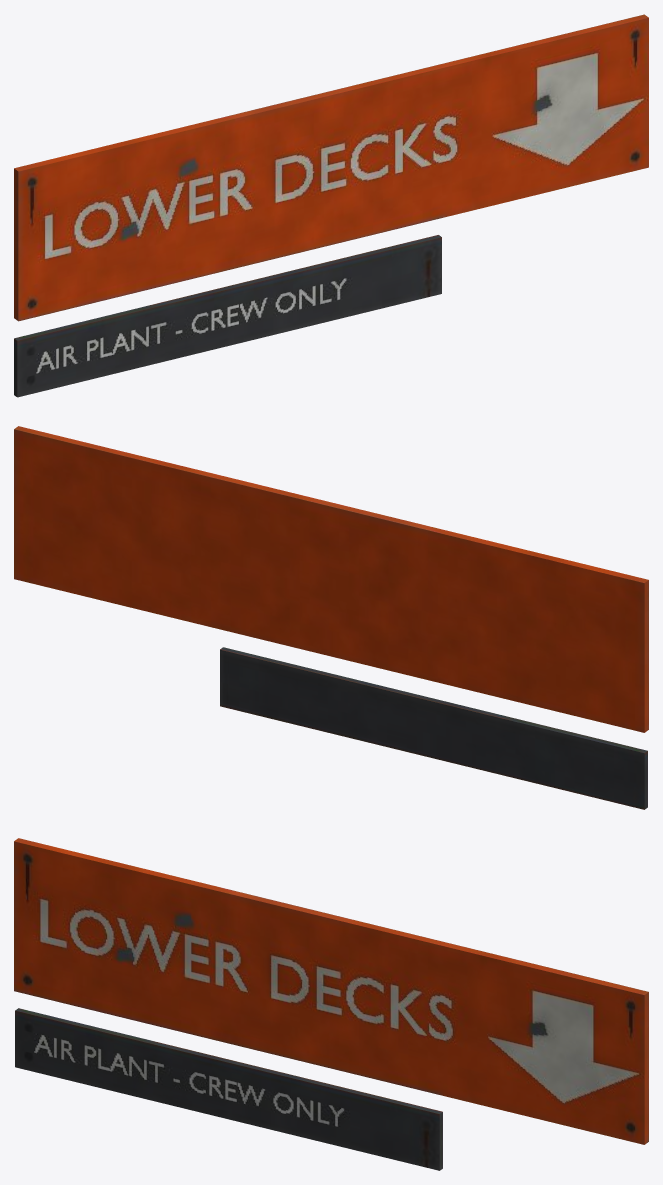
File: sign_lower_decks.glb
The picture shows the model from 3 angles, top to bottom: view 1: azimuth 30°, elevation 25°; view 2: azimuth 150°, elevation 25°; view 3: azimuth 330°, elevation 25°; orthographic projection.
Visible parts, largest first — view 1: sign_lower_decks; view 2: sign_lower_decks; view 3: sign_lower_decks.
Part boxes in pixels (box(x1,y1,x2,y2)): sign_lower_decks: box(14, 14, 648, 397); sign_lower_decks: box(14, 426, 648, 809); sign_lower_decks: box(14, 838, 648, 1170).
Size of the model in its own units: 1.63 by 0.56 by 0.02.
Materials: 1 (1 with a texture image).
